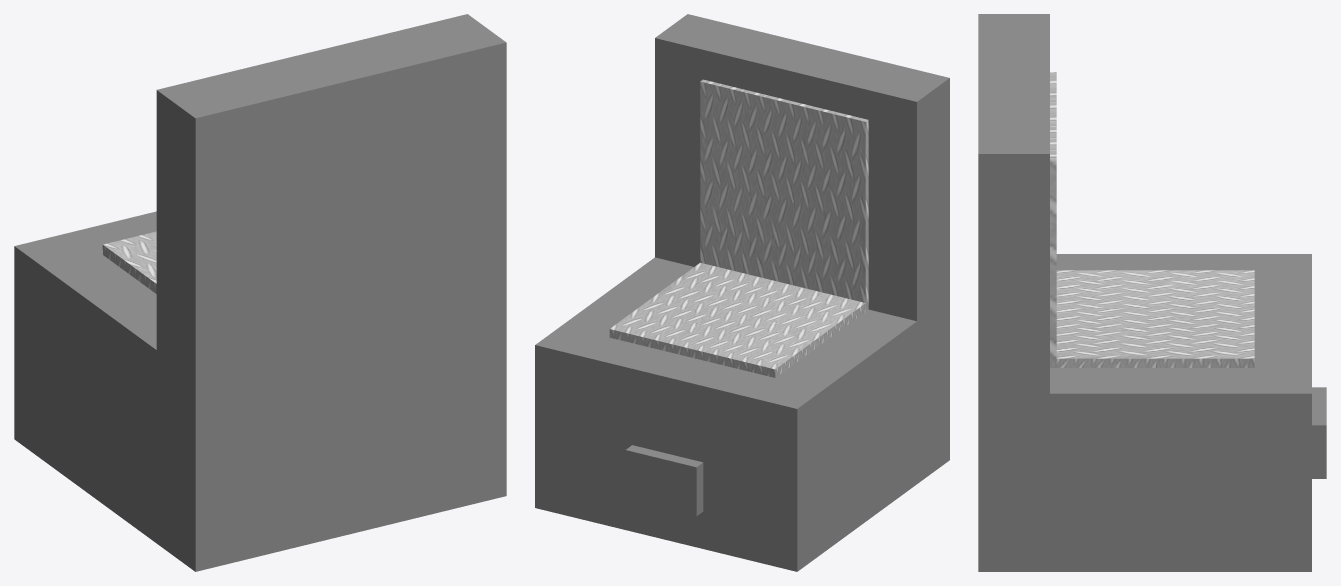
The model's file is xishou.FBX.
3 renders of one model, left to right at view 1: azimuth 30°, elevation 25°; view 2: azimuth 150°, elevation 25°; view 3: azimuth 270°, elevation 25°, orthographic. The views are drawn at different scales.
Parts seen in each view (by area): view 1: xishou; view 2: xishou; view 3: xishou.
Part boxes in pixels (x1,y1,x2,y2): xishou: [14, 14, 506, 571]; xishou: [535, 14, 949, 571]; xishou: [978, 14, 1326, 571].
Size of the model in its own units: 519 by 723 by 546.
